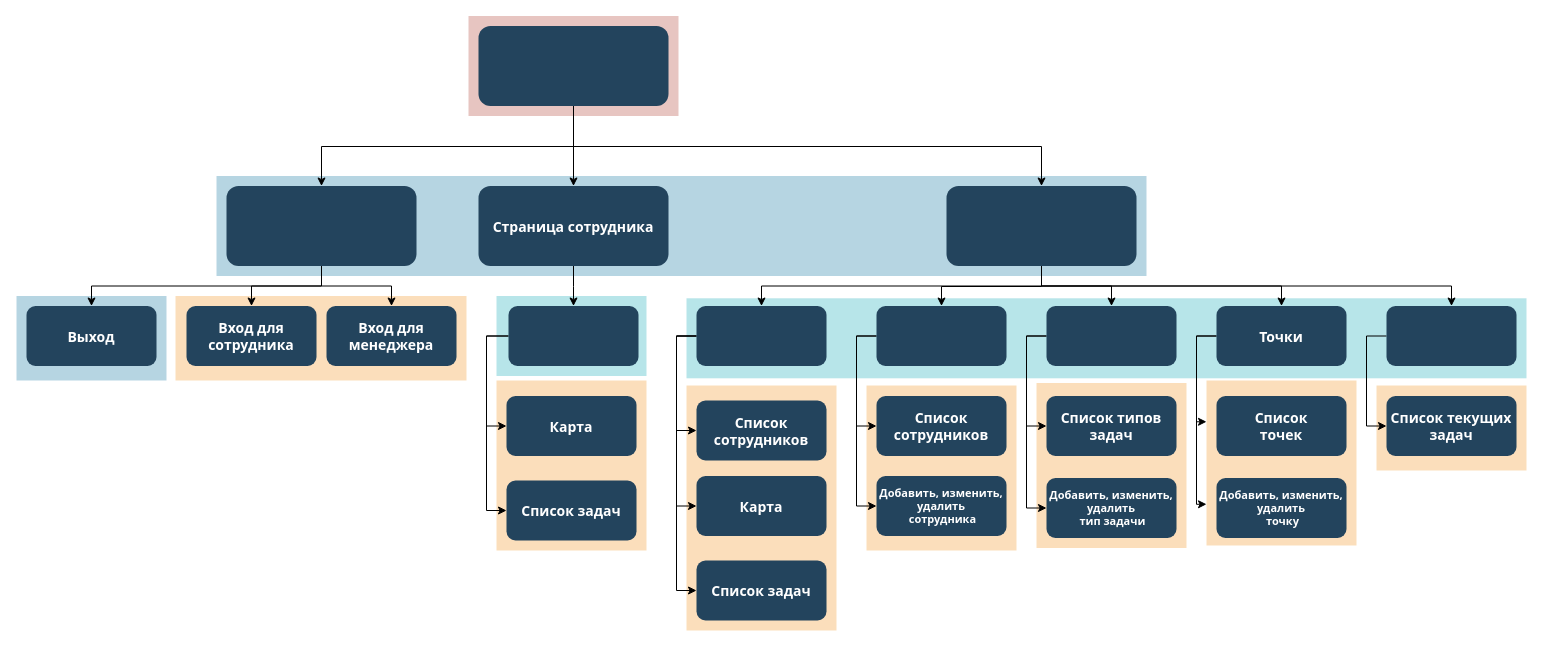
The diagram is 1543 pixels wide and 647 high, and some of its shapes have lost their labels. Here are the shapes that lost their labels. From the top down, the centre of each, then its label:
(x=573, y=66): Главная страница
(x=321, y=226): Авторизация
(x=1041, y=226): Страница менеджера
(x=573, y=336): Прогресс сотрудника
(x=761, y=336): Прогресс сотрудников
(x=941, y=336): Сотрудники
(x=1111, y=336): Типы задач
(x=1451, y=336): Эффективность сотрудников
